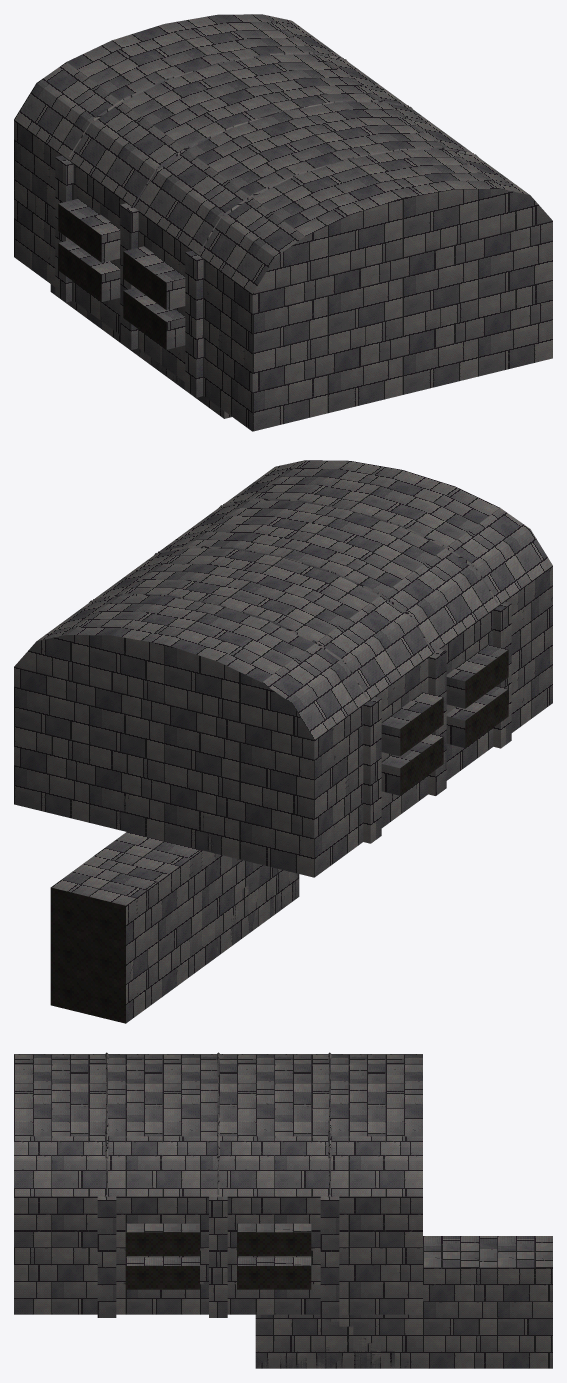
File: cripta_interior.obj
3 views of the same model, one above another, from view 1: azimuth 30°, elevation 25°; view 2: azimuth 150°, elevation 25°; view 3: azimuth 270°, elevation 25° (orthographic). The views are drawn at different scales.
Parts seen in each view (by area): view 1: cripta_interior; view 2: cripta_interior; view 3: cripta_interior.
Part boxes in pixels (x1,y1,x2,y2): cripta_interior: (14, 14, 552, 431); cripta_interior: (14, 460, 552, 1023); cripta_interior: (14, 1052, 552, 1368).
Bounding box in the file's own units: 9.1 × 8.01 × 14.5.
Materials: 3 (3 with a texture image).
